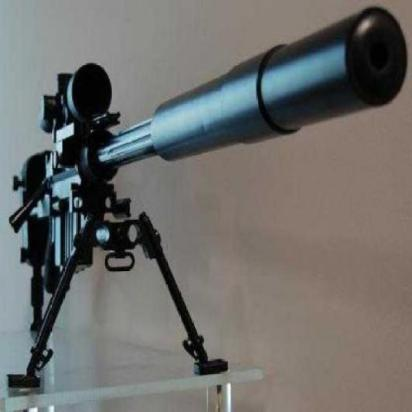Gun: (14, 7, 406, 276)
